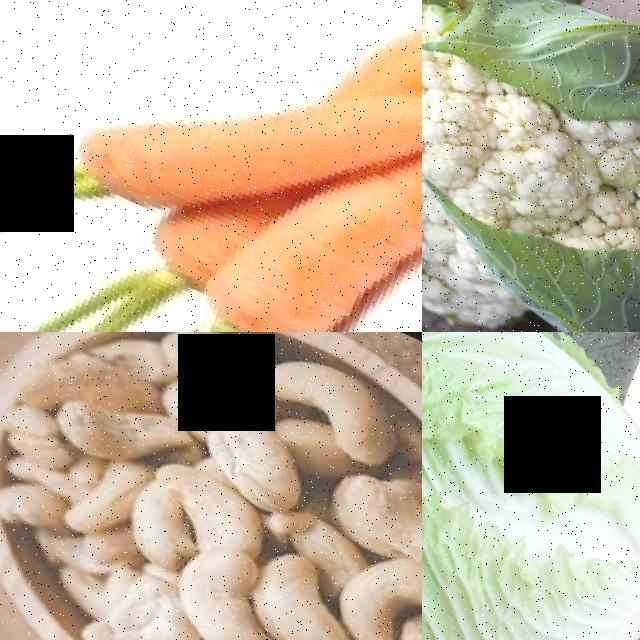cabbage: (422, 332, 640, 640)
carrot: (1, 17, 238, 254), (135, 189, 371, 332)
cashew: (175, 402, 350, 544), (267, 357, 422, 492), (129, 449, 286, 568), (47, 374, 196, 496), (34, 431, 159, 563), (137, 529, 272, 640), (42, 549, 201, 640), (334, 493, 422, 637), (220, 556, 355, 640), (316, 546, 422, 640)
cauliflower: (422, 0, 640, 332)
